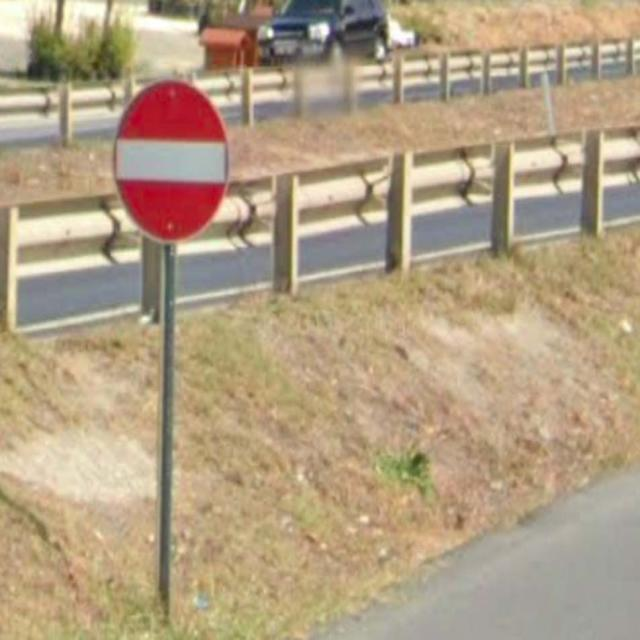girisyok: (114, 79, 228, 242)
